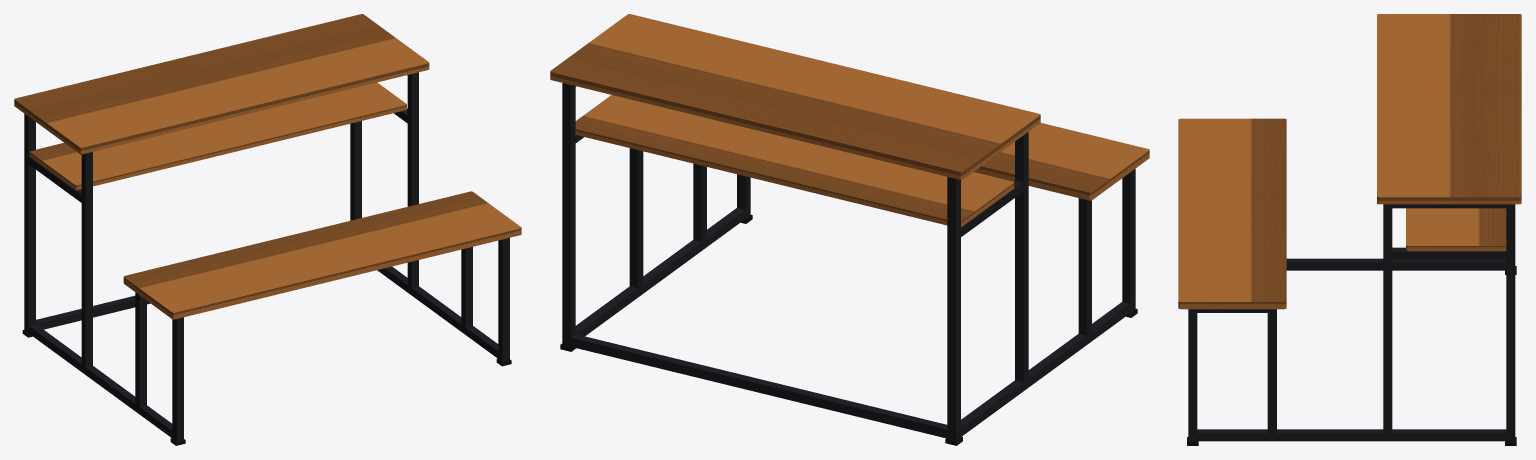
File: pds-sb-807.glb
3 renders of one model, left to right at view 1: azimuth 30°, elevation 25°; view 2: azimuth 150°, elevation 25°; view 3: azimuth 270°, elevation 25°, orthographic. The views are drawn at different scales.
Visible parts, largest first — view 1: bench-laminate, steel-powder; view 2: bench-laminate, steel-powder; view 3: bench-laminate, steel-powder.
Part boxes in pixels (x1,y1,x2,y2): bench-laminate: (14, 14, 521, 319); steel-powder: (24, 72, 509, 441); bench-laminate: (550, 14, 1149, 227); steel-powder: (562, 83, 1135, 440); bench-laminate: (1178, 14, 1521, 309); steel-powder: (1188, 204, 1515, 441).
Bounding box in the file's own units: 1.2 × 0.771 × 0.95.
Materials: 3 (1 with a texture image).
